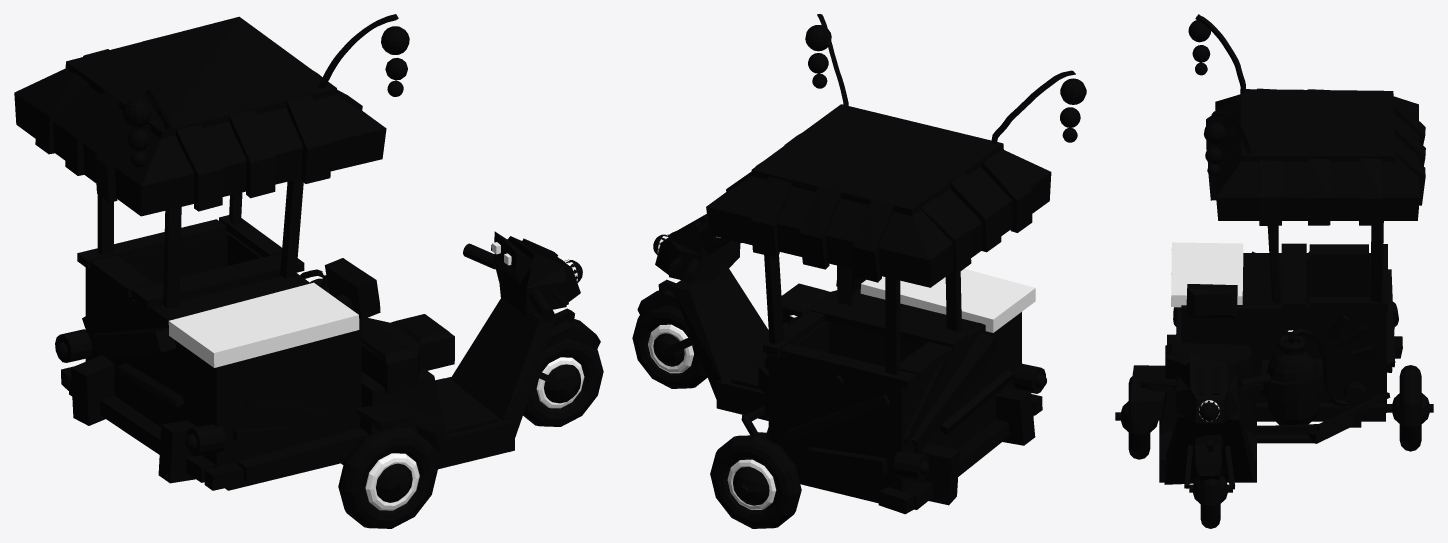
Rendered from pp_vendor_cart.fbx.
The picture shows the model from 3 angles, left to right: view 1: azimuth 30°, elevation 25°; view 2: azimuth 150°, elevation 25°; view 3: azimuth 270°, elevation 25°; orthographic projection. The views are drawn at different scales.
Visible parts, largest first — view 1: pp_vendor_cart_LOD0; view 2: pp_vendor_cart_LOD0; view 3: pp_vendor_cart_LOD0.
Part boxes in pixels (x1,y1,x2,y2): pp_vendor_cart_LOD0: [14, 14, 603, 528]; pp_vendor_cart_LOD0: [632, 14, 1086, 528]; pp_vendor_cart_LOD0: [1115, 14, 1433, 528].
Size of what is drawn, in the model's own units: 2.62 by 2.4 by 1.9.
1 material, 1 textured.
